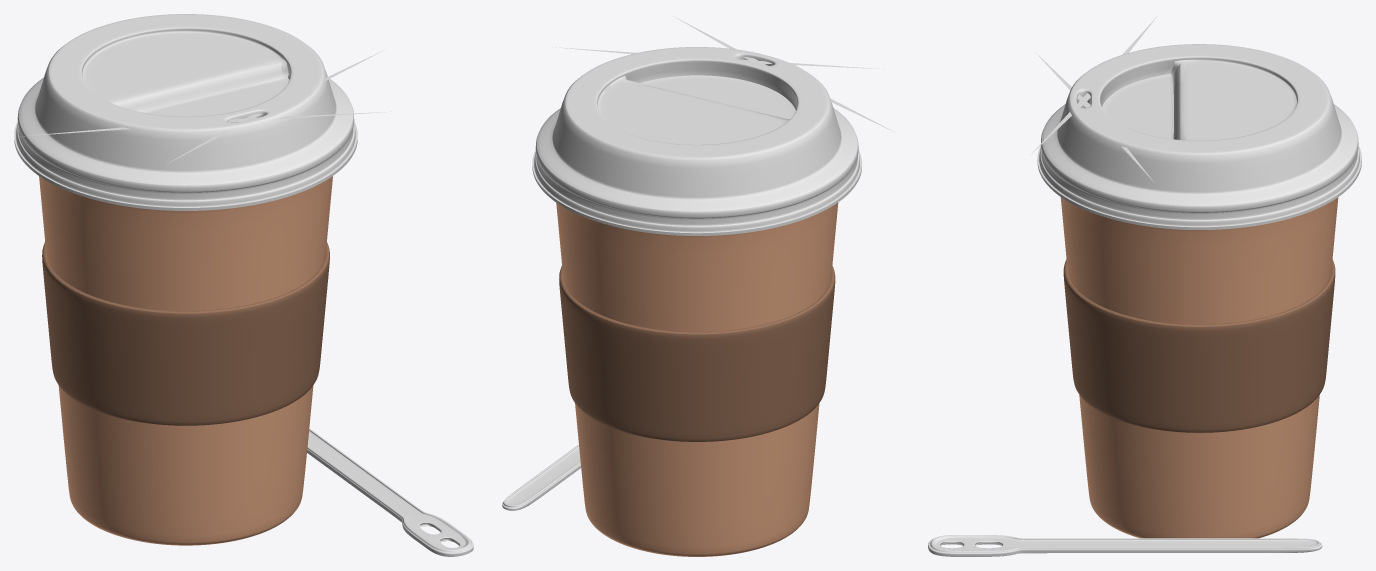
File: coffee_cup.fbx
3 views of the same model, side by side, from view 1: azimuth 30°, elevation 25°; view 2: azimuth 150°, elevation 25°; view 3: azimuth 270°, elevation 25° (orthographic). The views are drawn at different scales.
Parts seen in each view (by area): view 1: Mug, Lid, Band, Stirrer; view 2: Mug, Lid, Band, Stirrer; view 3: Mug, Lid, Band, Stirrer.
Boxes of the visible parts, x1,y1,x2,y2 form: Mug: (39, 176, 332, 545); Lid: (14, 14, 391, 210); Band: (42, 242, 329, 425); Stirrer: (307, 428, 473, 556); Mug: (556, 202, 838, 556); Lid: (532, 15, 895, 235); Band: (559, 266, 835, 441); Stirrer: (502, 444, 580, 510); Mug: (1060, 197, 1338, 538); Lid: (1030, 16, 1361, 229); Band: (1063, 259, 1335, 432); Stirrer: (928, 535, 1322, 556).
Bounding box in the file's own units: 0.1962 × 0.2167 × 0.2113.
